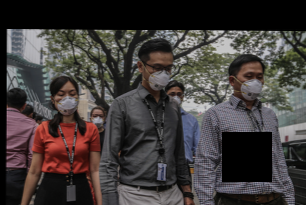with_mask: (235, 70, 266, 102), (144, 61, 174, 94), (55, 88, 80, 117), (166, 90, 183, 107), (90, 112, 105, 129)
